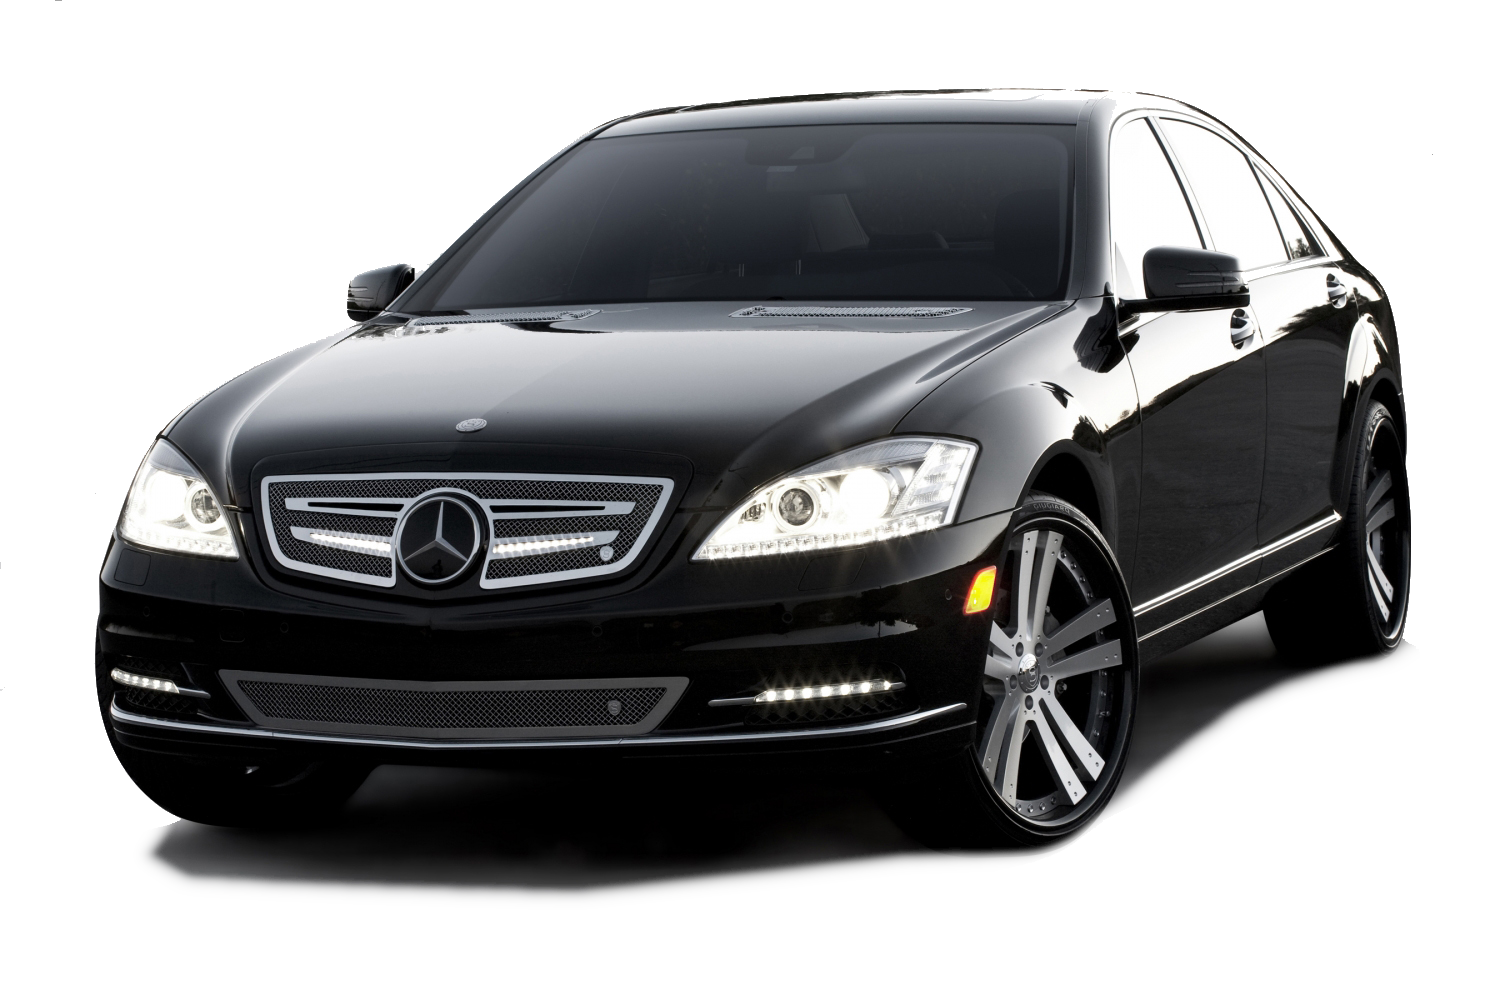P1_: (593, 642, 630, 664)
bbox: (292, 633, 595, 727)
